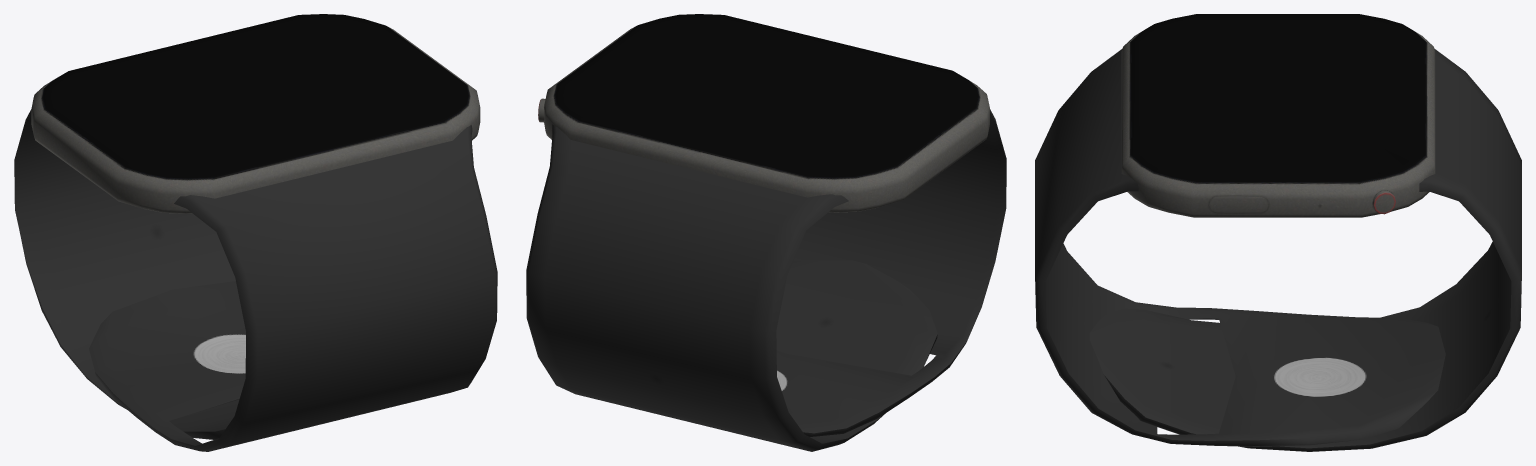
File: Watch.fbx
3 renders of one model, left to right at view 1: azimuth 30°, elevation 25°; view 2: azimuth 150°, elevation 25°; view 3: azimuth 270°, elevation 25°, orthographic.
Visible parts, largest first — view 1: WristBand, Monitor; view 2: WristBand, Monitor; view 3: WristBand, Monitor.
Boxes of the visible parts, x1,y1,x2,y2 form: WristBand: [14, 109, 497, 451]; Monitor: [31, 14, 480, 213]; WristBand: [526, 109, 1006, 451]; Monitor: [544, 14, 989, 212]; WristBand: [1035, 48, 1521, 451]; Monitor: [1121, 14, 1435, 217].
Size of the model in its own units: 9.01 by 6.98 by 10.42.
